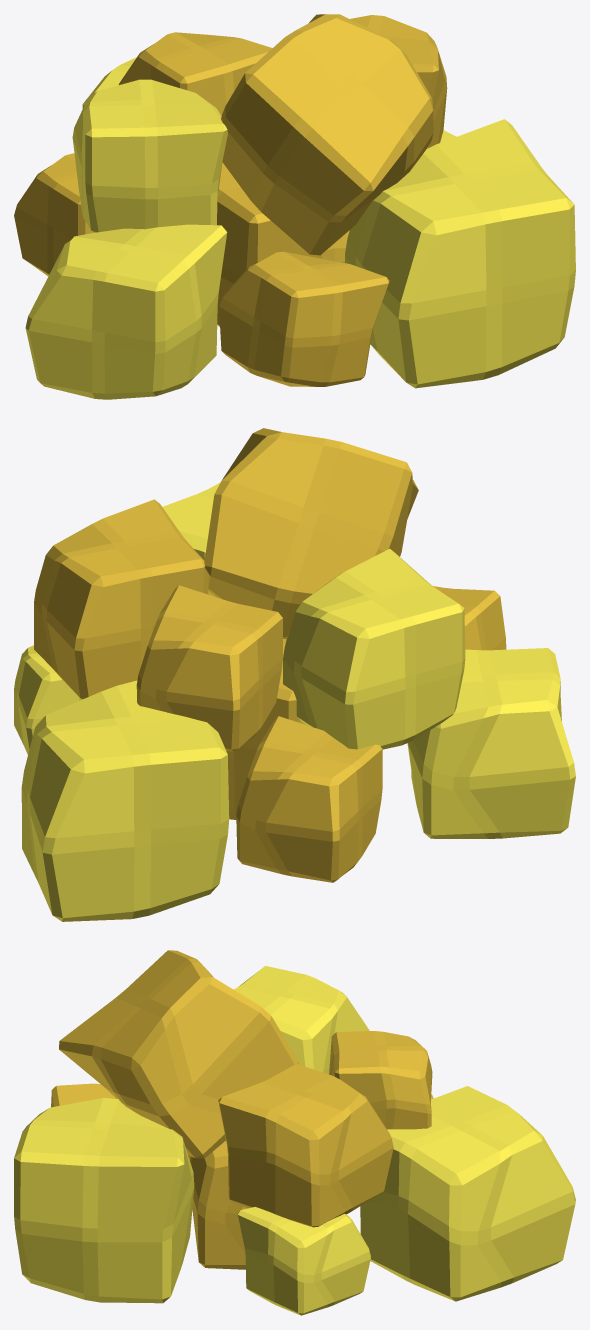
File: sulfur.fbx
The picture shows the model from 3 angles, top to bottom: view 1: azimuth 30°, elevation 25°; view 2: azimuth 150°, elevation 25°; view 3: azimuth 270°, elevation 25°; orthographic projection. The views are drawn at different scales.
Visible parts, largest first — view 1: sulfur; view 2: sulfur; view 3: sulfur.
Boxes of the visible parts, left/top/right/bottom form: sulfur: left=14, top=14, right=575, bottom=399; sulfur: left=14, top=428, right=575, bottom=921; sulfur: left=14, top=950, right=575, bottom=1315.
Bounding box in the file's own units: 54.11 × 36.56 × 61.01.
